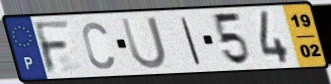4: (258, 8, 292, 65)
5: (208, 12, 252, 68)
C: (80, 20, 116, 71)
F: (31, 18, 73, 75)
I: (179, 16, 204, 66)
U: (118, 15, 169, 71)
